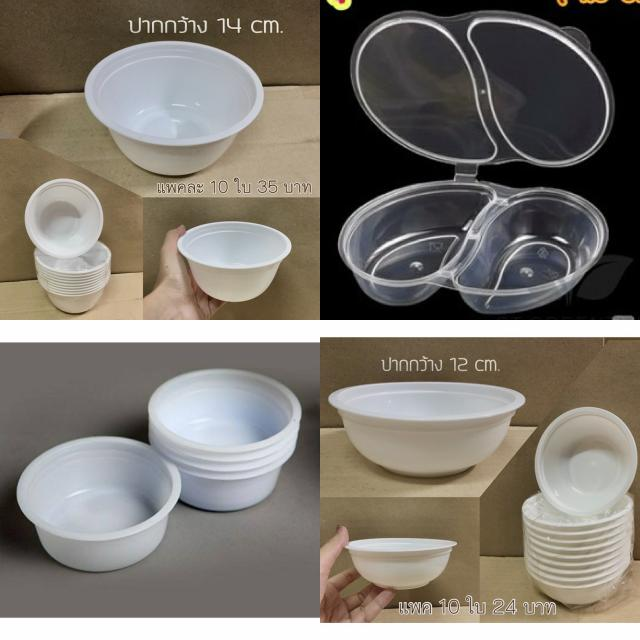Single-Use-Plastic: (350, 11, 614, 178), (339, 176, 608, 313), (85, 41, 264, 174), (18, 436, 180, 571), (150, 369, 301, 511), (329, 382, 525, 478), (535, 408, 638, 516), (178, 221, 291, 302), (25, 179, 102, 258), (345, 538, 456, 590)
